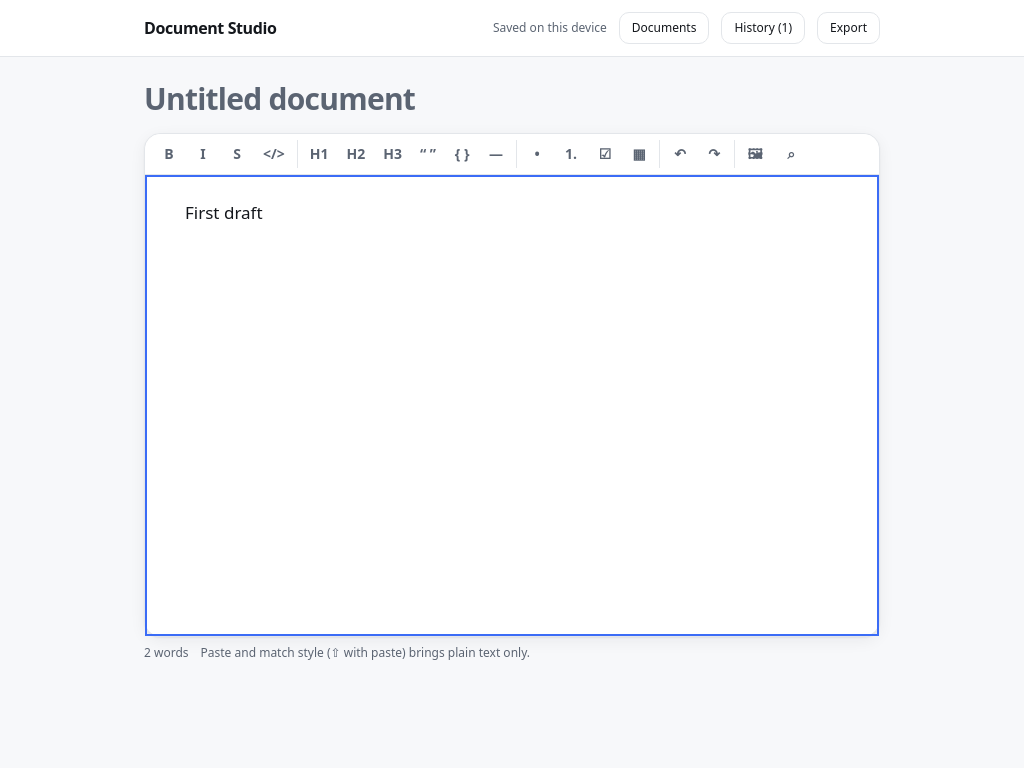
it: versions and restore — integration › writing makes an automatic version; a named one can be saved too
Check: the field named "Document" is shown, box top-left (145, 175), bottom-right (879, 636)
Click the button "History (1)". click: (763, 28)
box: top-left (722, 12), bottom-right (805, 44)
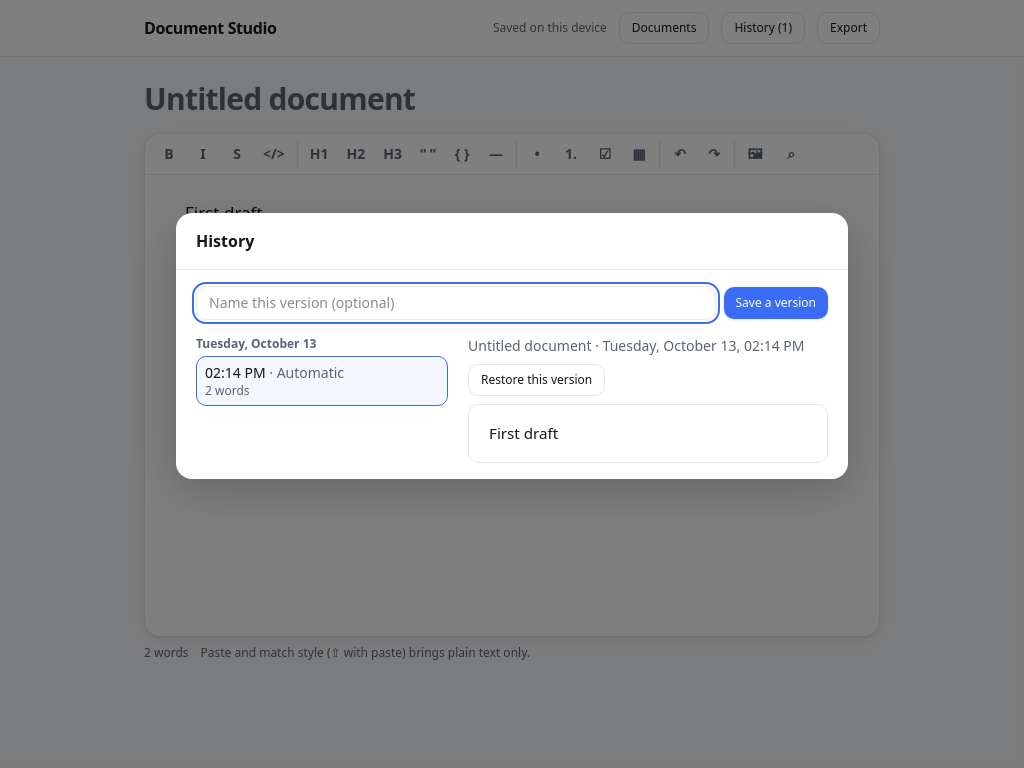
Type "Sent to Anna" into the field named "Version name". click: (456, 302)
box: top-left (196, 286), bottom-right (716, 320)
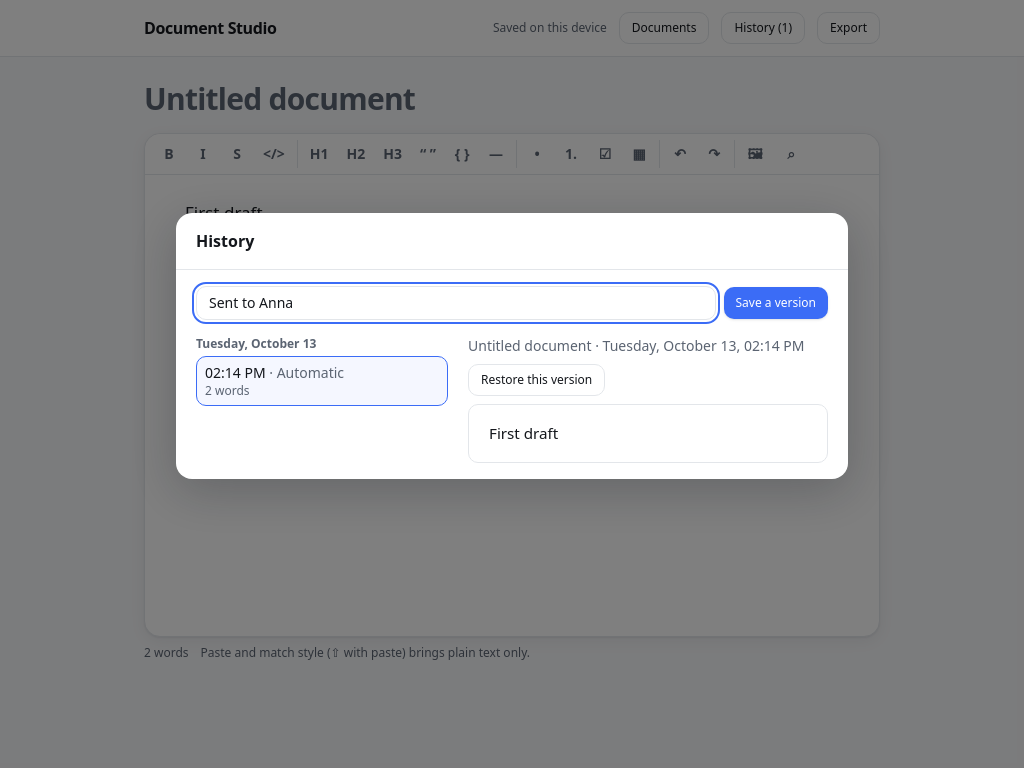
Click the button "Save a version". click: (776, 302)
box: top-left (724, 286), bottom-right (828, 318)
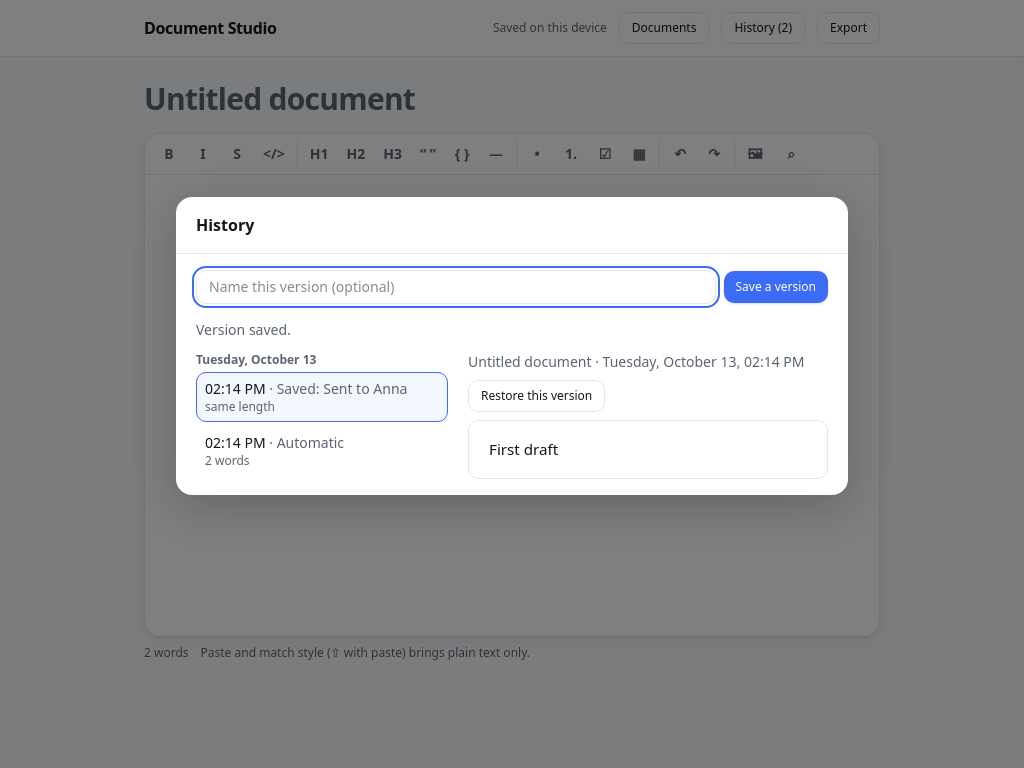
Check: the text "Version saved." is shown, box top-left (196, 320), bottom-right (291, 338)
Check: the button "02:14 PM · Saved: Sent to Anna same length" is shown, box top-left (196, 372), bottom-right (448, 422)
